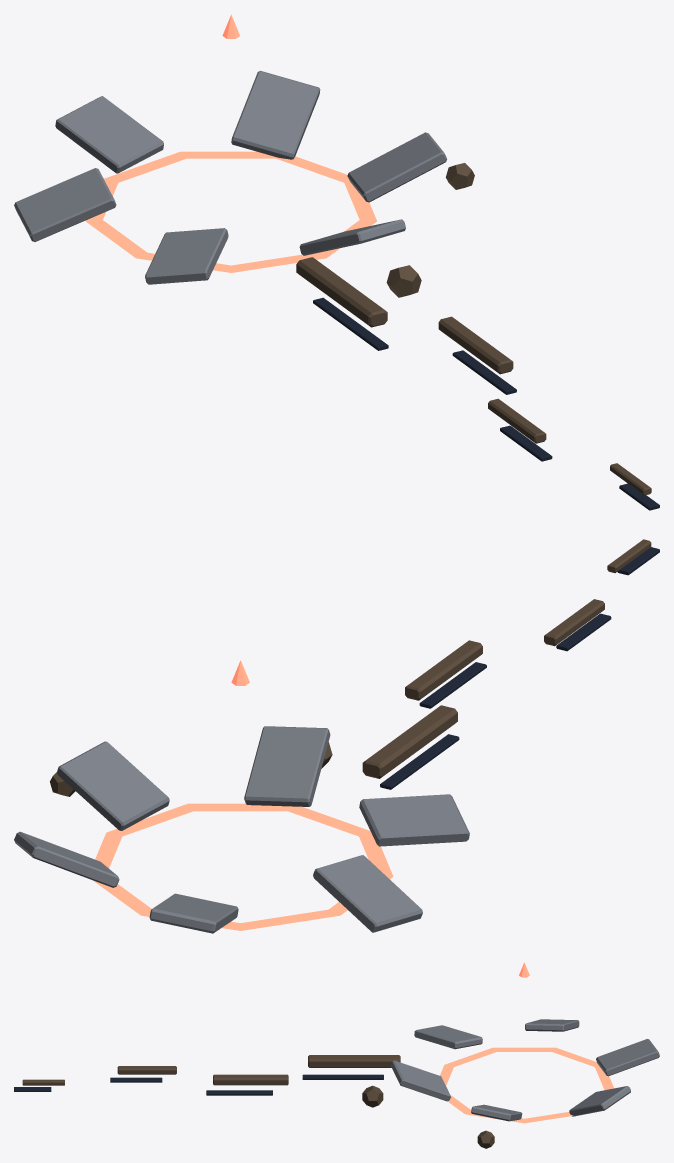
Rendered from enemy_mole_burrowed.glb.
3 views of the same model, one above another, from view 1: azimuth 30°, elevation 25°; view 2: azimuth 150°, elevation 25°; view 3: azimuth 270°, elevation 25° (orthographic). The views are drawn at different scales.
Parts seen in each view (by area): view 1: mole_ground_plate5, mole_fissure_glow, mole_ground_plate4, mole_ground_plate3, mole_ground_plate2, mole_ground_plate0, mole_tremor_ridge0, mole_tremor_ridge1, mole_ground_plate1, mole_tremor_ridge2, mole_tremor_crack0, mole_tremor_clod0 (+1 smaller); view 2: mole_ground_plate1, mole_ground_plate0, mole_fissure_glow, mole_ground_plate2, mole_ground_plate3, mole_tremor_ridge0, mole_ground_plate4, mole_ground_plate5, mole_tremor_ridge1, mole_tremor_ridge2, mole_tremor_crack0, mole_tremor_crack1 (+1 smaller); view 3: mole_fissure_glow, mole_ground_plate4, mole_ground_plate1, mole_tremor_ridge0, mole_ground_plate2, mole_ground_plate5, mole_tremor_ridge1, mole_ground_plate3, mole_ground_plate0, mole_tremor_ridge2, mole_tremor_crack0, mole_tremor_crack1 (+3 smaller).
Part boxes in pixels (box(x1,y1,x2,y2)): mole_ground_plate5: box(231, 70, 320, 159); mole_fissure_glow: box(85, 151, 376, 272); mole_ground_plate4: box(55, 96, 163, 173); mole_ground_plate3: box(14, 168, 116, 241); mole_ground_plate2: box(145, 228, 228, 284); mole_ground_plate0: box(347, 132, 446, 202); mole_tremor_ridge0: box(296, 257, 387, 327); mole_tremor_ridge1: box(438, 316, 513, 374); mole_ground_plate1: box(299, 219, 405, 255); mole_tremor_ridge2: box(488, 398, 546, 443); mole_tremor_crack0: box(313, 297, 388, 350); mole_tremor_clod0: box(386, 265, 421, 297); mole_ground_plate1: box(244, 726, 330, 806); mole_ground_plate0: box(57, 741, 169, 830); mole_fissure_glow: box(93, 803, 393, 930); mole_ground_plate2: box(359, 794, 469, 846); mole_ground_plate3: box(313, 855, 422, 932); mole_tremor_ridge0: box(362, 705, 457, 778); mole_ground_plate4: box(149, 893, 238, 933); mole_ground_plate5: box(14, 831, 119, 887); mole_tremor_ridge1: box(405, 640, 482, 700); mole_tremor_ridge2: box(544, 599, 604, 646); mole_tremor_crack0: box(380, 734, 459, 789); mole_tremor_crack1: box(419, 662, 486, 708); mole_fissure_glow: box(440, 1047, 613, 1123); mole_ground_plate4: box(596, 1039, 659, 1076); mole_ground_plate1: box(390, 1060, 450, 1101); mole_tremor_ridge0: box(308, 1055, 400, 1067); mole_ground_plate2: box(414, 1025, 482, 1049); mole_ground_plate5: box(569, 1086, 630, 1116); mole_tremor_ridge1: box(213, 1074, 288, 1085); mole_ground_plate3: box(525, 1019, 579, 1031); mole_ground_plate0: box(471, 1104, 522, 1121); mole_tremor_ridge2: box(117, 1066, 176, 1074); mole_tremor_crack0: box(302, 1074, 383, 1079); mole_tremor_crack1: box(206, 1090, 272, 1095).
Size of what is drawn, in the model's own units: 1.55 by 0.7661 by 3.49.
